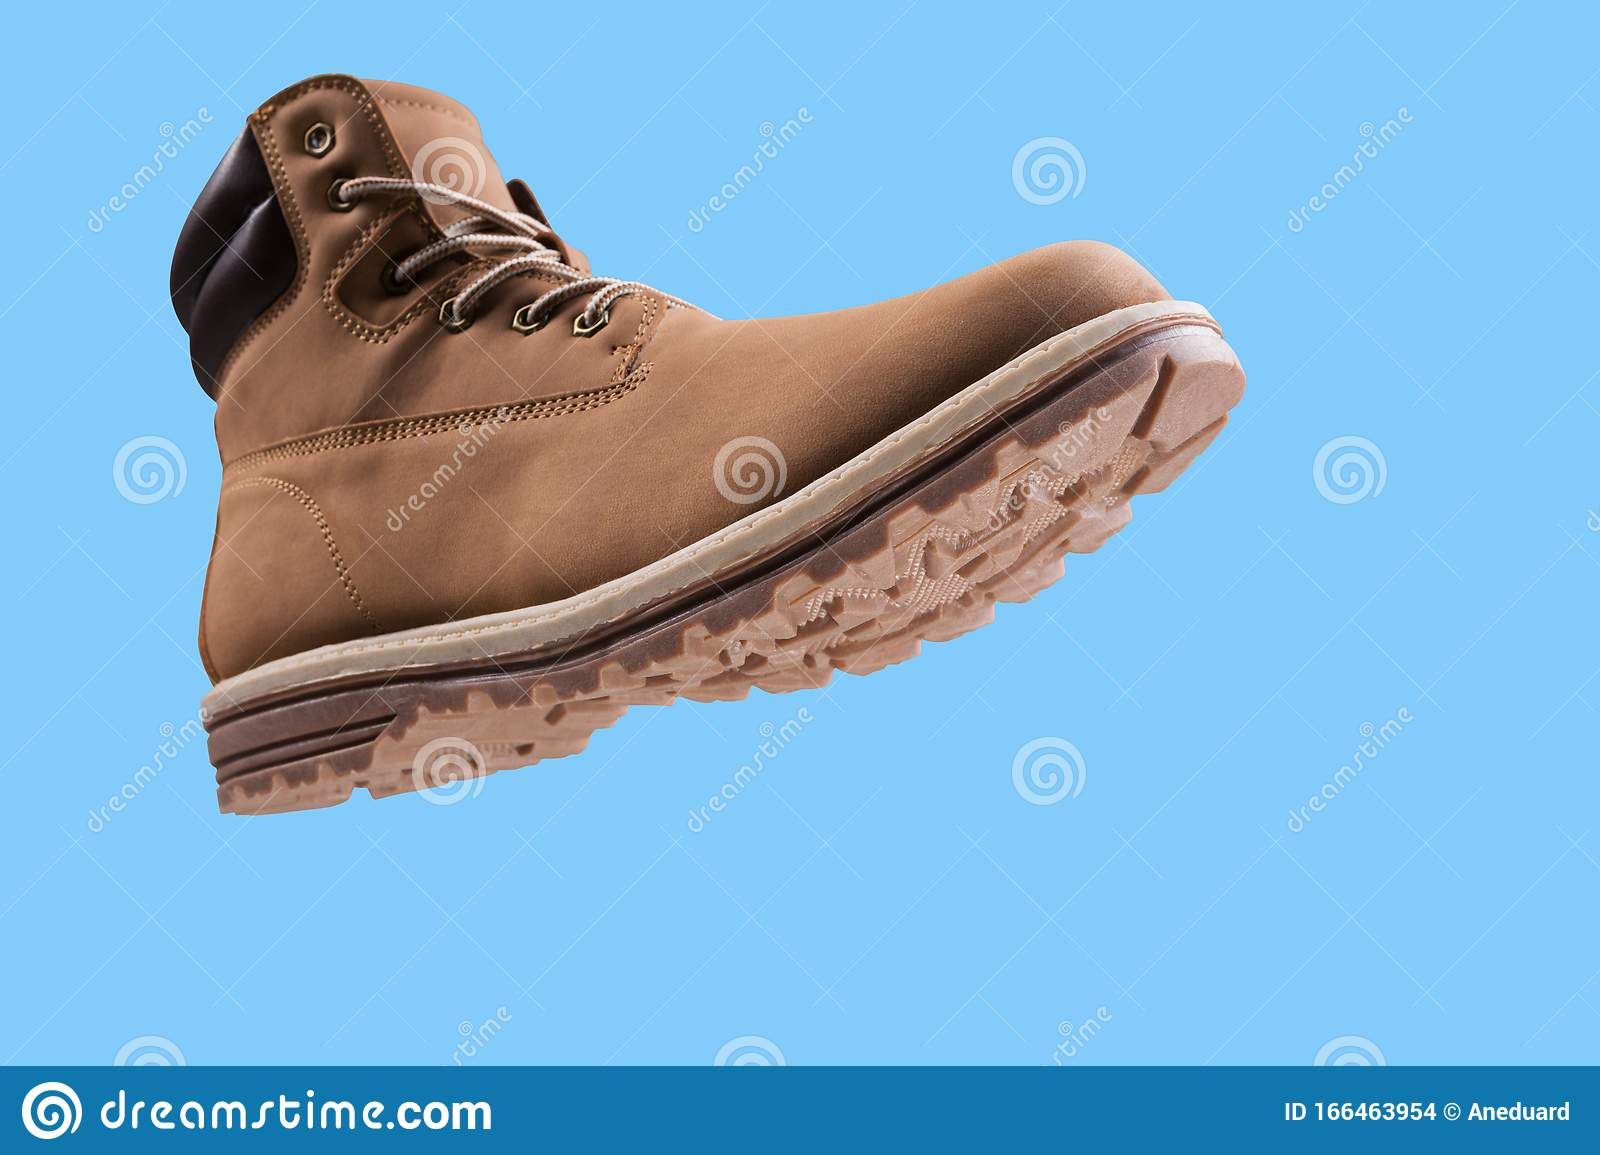shoes: (163, 67, 1255, 830)
